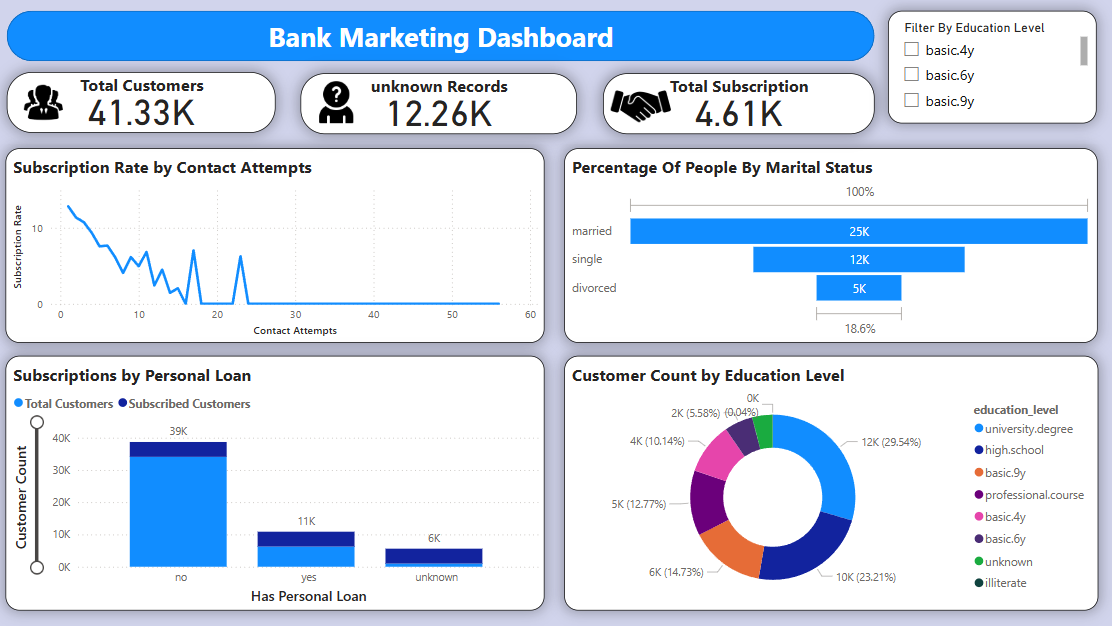

The page's visual inventory and layout, read from the dashboard file:
{"tool":"powerbi","page":{"name":"Page 1","canvas":[1280,720],"ordinal":0},"visuals":[{"type":"funnel","title":"Percentage Of People By Marital Status","fields":{"Category":["bank_marketing bank-additional-full.marital_status"],"Y":["Sum(sum of count and sum of percentage by marital status.count)"]},"box":[653.2,172.9,609.3,222.3],"z":0},{"type":"donutChart","title":"Customer Count by Education Level","fields":{"Category":["subscription count on the basis of education level and personal loan.education_level","subscription count on the basis of education level and personal loan.has_personal_loan"],"Y":["Sum(subscription count on the basis of education level and personal loan.COUNT(*))"]},"box":[652.9,410,610,291.4],"z":1000},{"type":"lineChart","title":"Subscription Rate by Contact Attempts","fields":{"Category":["based on campaign contacts.campaign_contacts"],"Y":["Sum(based on campaign contacts.subscription_rate)"]},"box":[13.7,172.9,616.1,222.3],"z":2000},{"type":"kpi","title":"Total Customers","fields":{"Indicator":["Sum(total customers.COUNT(*))"],"TrendLine":["based on campaign contacts.campaign_contacts"]},"box":[15.1,85.1,307.4,70],"z":3000},{"type":"kpi","title":"Total Subscription","fields":{"Indicator":["Sum(based on campaign contacts.subscribed)"],"TrendLine":["subscription count on the basis of education level and personal loan.COUNT(*)"]},"box":[697.1,86.4,310.1,70],"z":4000},{"type":"columnChart","title":"Subscriptions by Personal Loan","fields":{"Category":["subscription count on the basis of education level and personal loan.has_personal_loan"],"Y":["Sum(subscription count on the basis of education level and personal loan.COUNT(*))","Sum(based on campaign contacts.subscribed)"]},"box":[13.7,410.3,616.1,290.9],"z":5000},{"type":"slicer","fields":{"Values":["subscription count on the basis of education level and personal loan.education_level"]},"box":[1022.9,15.7,238.6,128.6],"z":6000},{"type":"shape","box":[15.1,15.1,992.1,57.6],"z":7000},{"type":"kpi","title":"unknown Records","fields":{"Indicator":["Sum(total unknown.total_null_or_unknown_count)"],"TrendLine":["total customers.COUNT(*)"]},"box":[351.3,86.4,315.6,70],"z":8000},{"type":"image","box":[13.7,91.9,86.4,57.6],"z":9000},{"type":"image","box":[337.6,91.9,109.8,57.6],"z":10000},{"type":"image","box":[697.1,85.1,86.4,78.2],"z":11000}]}

Visuals, with their boxes in screenshot pixels (x1, y1, x2, y2), scaled from the page's 1280x720 canvas onto the 1112x626 screenshot:
"Percentage Of People By Marital Status" funnel: box(567, 150, 1097, 344)
"Customer Count by Education Level" donutChart: box(567, 356, 1097, 610)
"Subscription Rate by Contact Attempts" lineChart: box(12, 150, 547, 344)
"Total Customers" kpi: box(13, 74, 280, 135)
"Total Subscription" kpi: box(606, 75, 875, 136)
"Subscriptions by Personal Loan" columnChart: box(12, 357, 547, 610)
slicer - subscription count on the basis of education level and personal loan.education_level: box(889, 14, 1096, 125)
shape: box(13, 13, 875, 63)
"unknown Records" kpi: box(305, 75, 579, 136)
image: box(12, 80, 87, 130)
image: box(293, 80, 389, 130)
image: box(606, 74, 681, 142)
